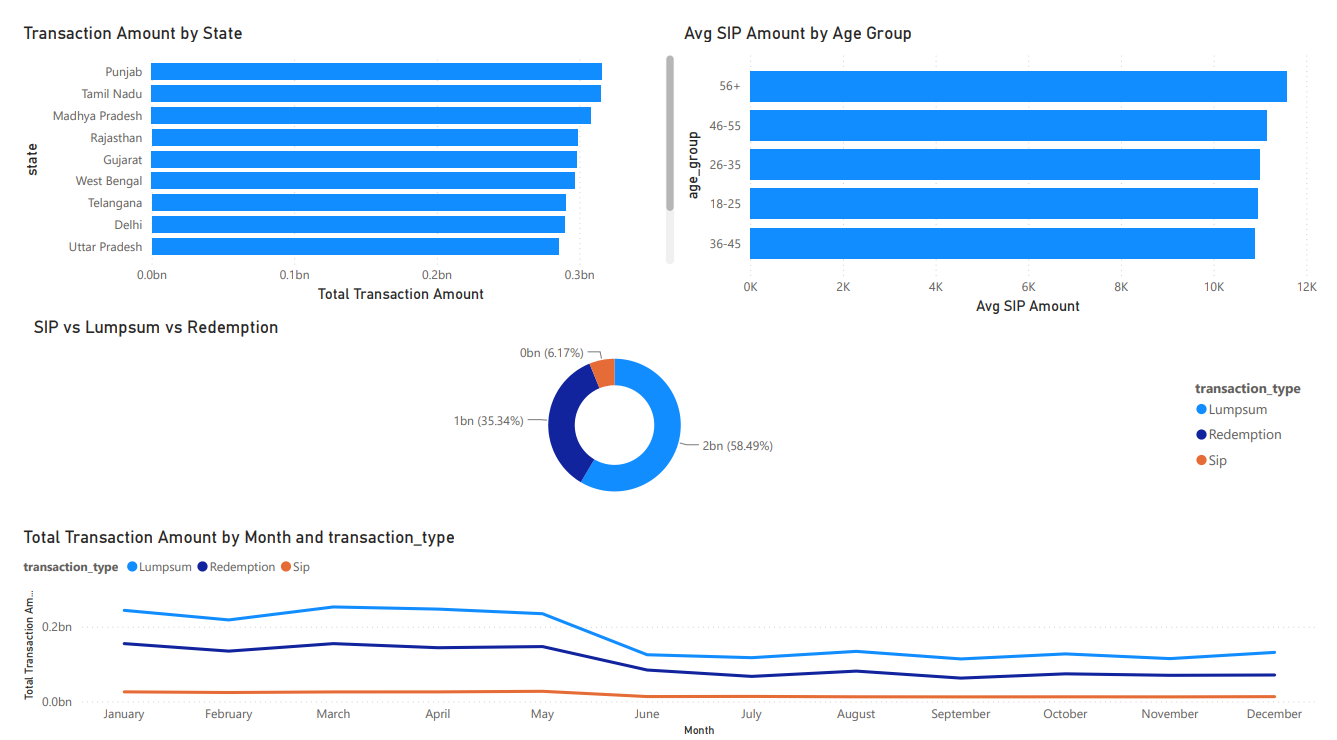

What the dashboard file says about the page in this screenshot:
{"tool":"powerbi","page":{"name":"Investor Analytics","canvas":[1280,720],"ordinal":2},"visuals":[{"type":"clusteredBarChart","title":"Transaction Amount by State","fields":{"Category":["clean_investor_transactions.state"],"Y":["KPI_AUM.Total Transaction Amount"]},"box":[0,0,649.1,279.8],"z":0},{"type":"donutChart","title":"SIP vs Lumpsum vs Redemption","fields":{"Category":["clean_investor_transactions.transaction_type"],"Y":["KPI_AUM.Total Transaction Amount"]},"box":[9.6,289.4,1270.6,192.9],"z":1},{"type":"barChart","title":"Avg SIP Amount by Age Group","fields":{"Category":["clean_investor_transactions.age_group"],"Y":["KPI_AUM.Avg SIP Amount"]},"box":[649.1,0,631.2,290.8],"z":2},{"type":"lineChart","fields":{"Category":["clean_investor_transactions.transaction_date.Variation.Date Hierarchy.Month"],"Y":["KPI_AUM.Total Transaction Amount"],"Series":["clean_investor_transactions.transaction_type"]},"box":[0,494.7,1280.3,210.9],"z":3}]}

Visuals, with their boxes in screenshot pixels (x1, y1, x2, y2), scaled from the page's 1280x720 canvas onto the 1337x740 screenshot:
"Transaction Amount by State" clusteredBarChart: (0,0,678,288)
"SIP vs Lumpsum vs Redemption" donutChart: (10,297,1336,496)
"Avg SIP Amount by Age Group" barChart: (678,0,1336,299)
lineChart - clean_investor_transactions.transaction_date.Variation.Date Hierarchy.Month x KPI_AUM.Total Transaction Amount: (0,508,1336,725)
